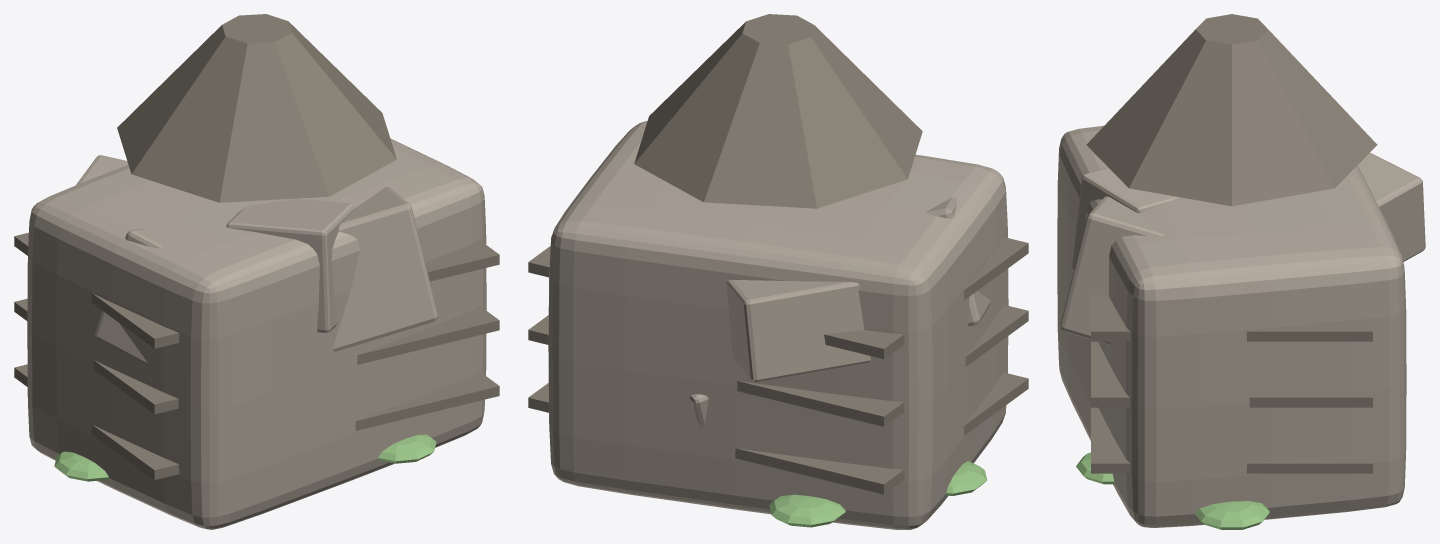
The model's file is rocky_cliff.glb.
3 views of the same model, side by side, from view 1: azimuth 30°, elevation 25°; view 2: azimuth 150°, elevation 25°; view 3: azimuth 270°, elevation 25° (orthographic). The views are drawn at different scales.
Parts seen in each view (by area): view 1: rocky_cliff; view 2: rocky_cliff; view 3: rocky_cliff.
Boxes of the visible parts, x1,y1,x2,y2 form: rocky_cliff: [14, 14, 499, 529]; rocky_cliff: [528, 14, 1028, 529]; rocky_cliff: [1057, 14, 1425, 529].
Bounding box in the file's own units: 2.58 × 2.55 × 2.02.
